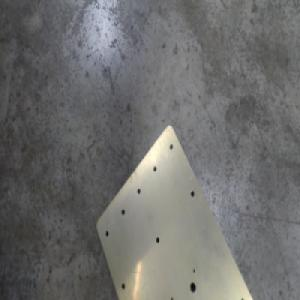MetalSheet: (94, 119, 255, 300)
